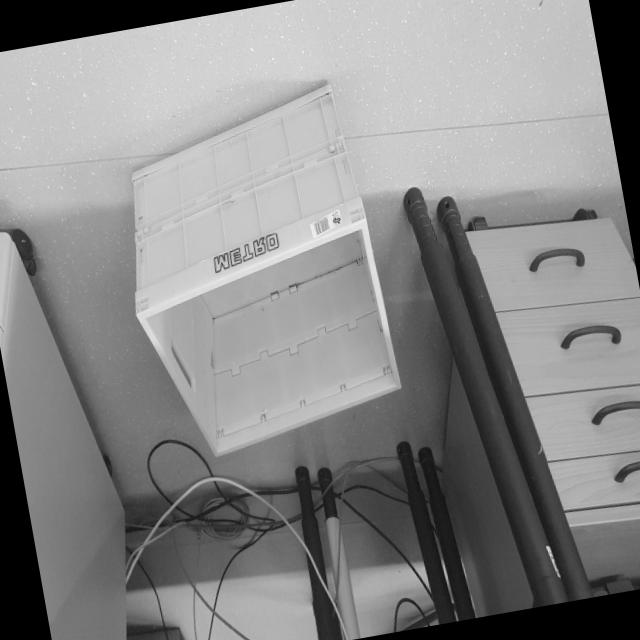box: (96, 68, 415, 480)
